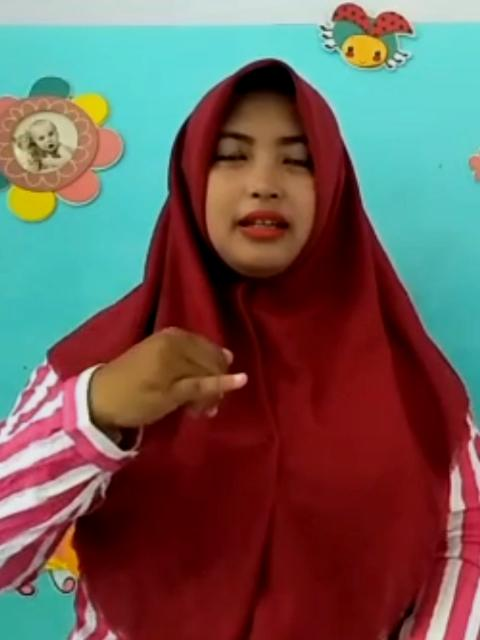J: (100, 324, 250, 438)
